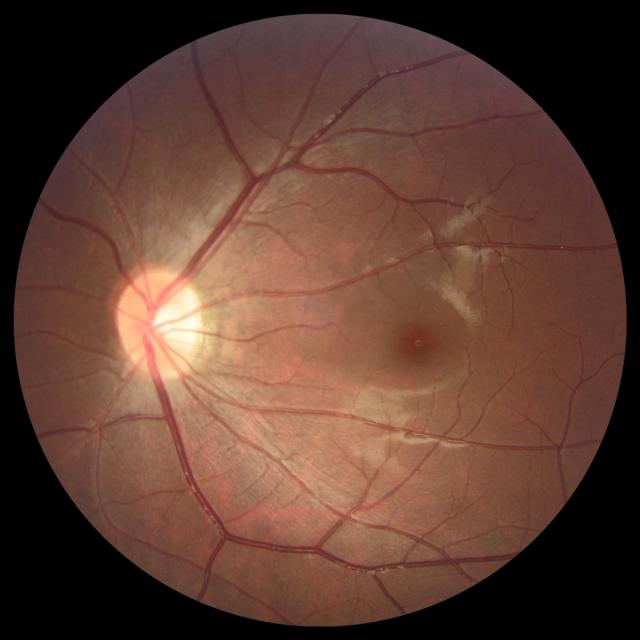OC: (144, 300, 186, 345)
OD: (115, 267, 202, 375)
